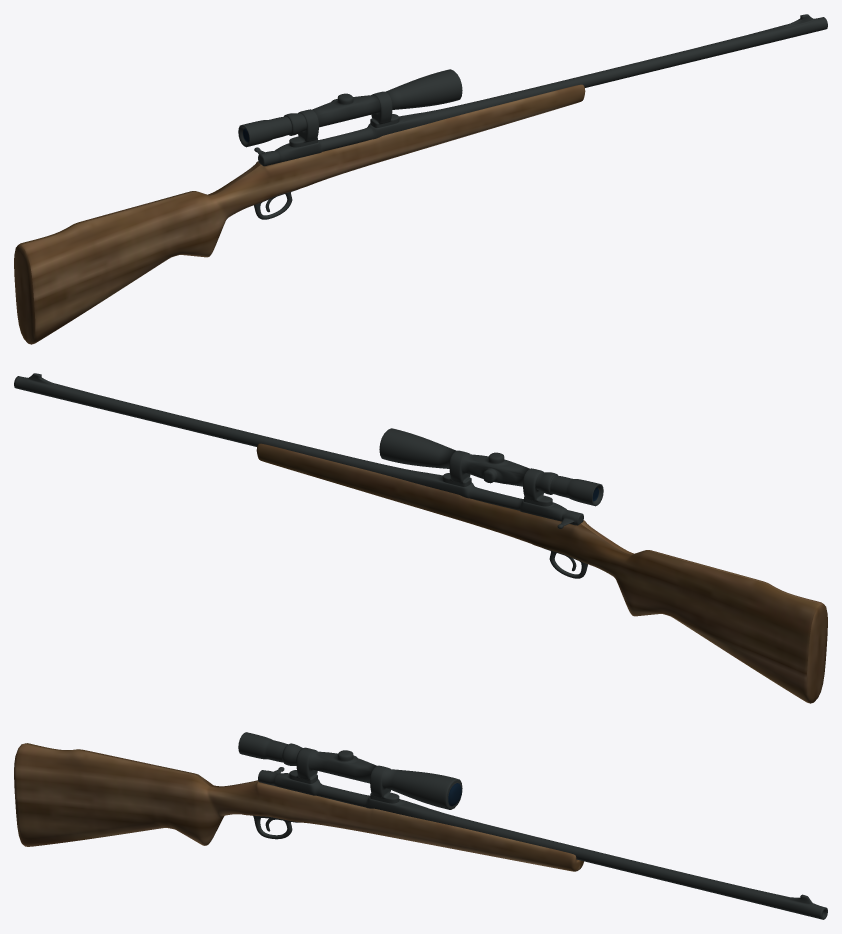
The model's file is Rifle.fbx.
The picture shows the model from 3 angles, top to bottom: view 1: azimuth 30°, elevation 25°; view 2: azimuth 150°, elevation 25°; view 3: azimuth 330°, elevation 25°; orthographic projection.
Parts seen in each view (by area): view 1: Cube; view 2: Cube; view 3: Cube.
Boxes of the visible parts, x1=… form: Cube: x1=14, y1=14, x2=827, y2=344; Cube: x1=14, y1=373, x2=827, y2=703; Cube: x1=14, y1=732, x2=827, y2=919.
Bounding box in the file's own units: 118 × 23.92 × 5.87.
